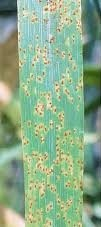Leaf Rust: (21, 28, 89, 210)
